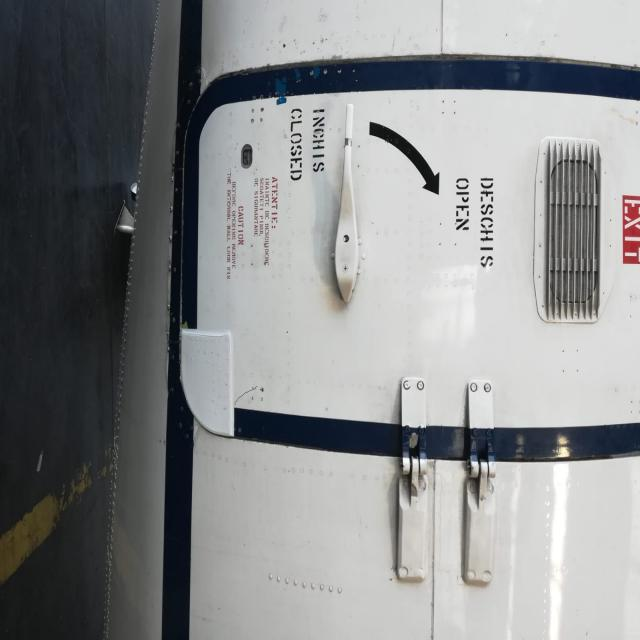crack: (235, 381, 269, 406)
